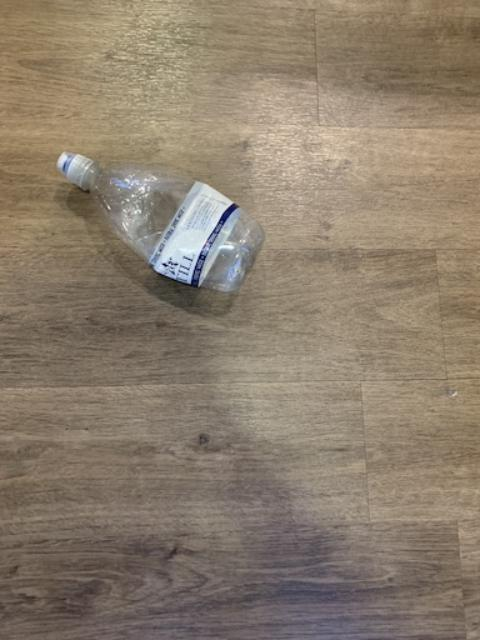plastic: (56, 151, 261, 289)
